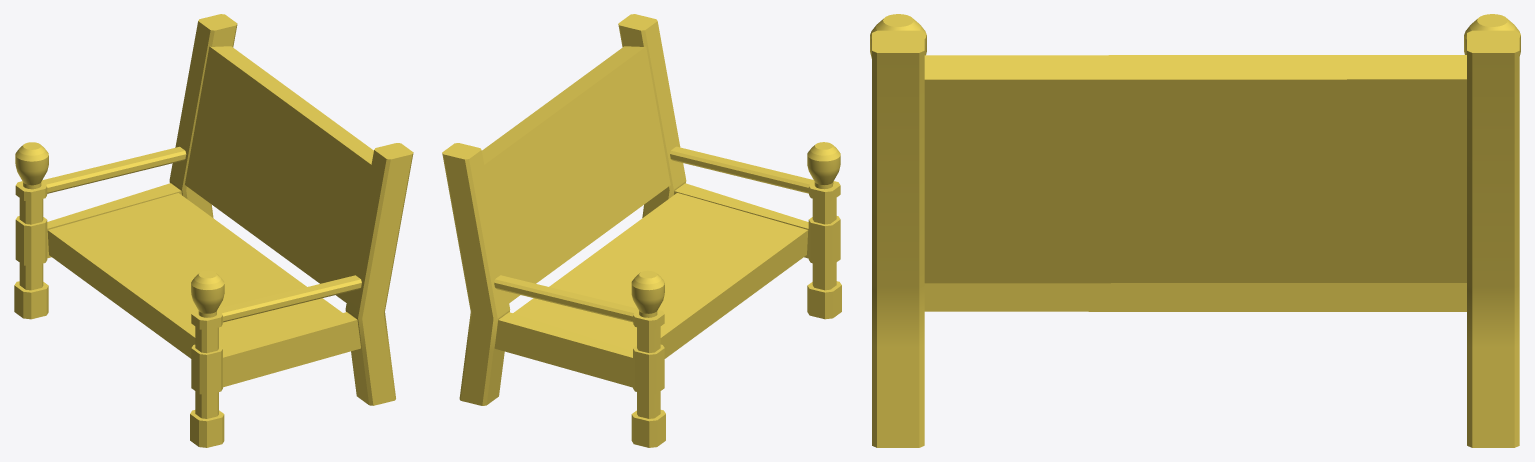
Rendered from wwr bench.fbx.
3 views of the same model, side by side, from view 1: azimuth 30°, elevation 25°; view 2: azimuth 150°, elevation 25°; view 3: azimuth 270°, elevation 25° (orthographic). The views are drawn at different scales.
Parts seen in each view (by area): view 1: back_bench, bench, back_post, back_post1, pCube24 (×2), pCube22 (×2), pCylinder25 (×2), pCube20 (×2), pCube21 (×2), pCube23 (×2); view 2: back_bench, bench, back_post1, back_post, pCube24 (×2), pCube22 (×2), pCylinder25 (×2), pCube20 (×2), pCube21 (×2), pCube23 (×2); view 3: back_bench, back_post1, back_post, bench, pCylinder25 (×2).
Part boxes in pixels (x1,y1,x2,y2): back_bench: (185,46,373,302); bench: (47,193,342,358); back_post: (223,143,413,405); back_post1: (47,14,237,258); pCube24 (×2): (15,146,361,330); pCube22 (×2): (15,216,222,394); pCylinder25 (×2): (15,142,224,317); pCube20 (×2): (14,281,224,447); pCube21 (×2): (19,263,218,418); pCube23 (×2): (19,198,218,353); back_bench: (482,46,670,303); bench: (513,193,808,358); back_post1: (442,143,632,405); back_post: (618,14,808,258); pCube24 (×2): (494,146,840,330); pCube22 (×2): (633,216,840,394); pCylinder25 (×2): (631,142,840,317); pCube20 (×2): (631,281,841,447); pCube21 (×2): (637,262,836,418); pCube23 (×2): (637,198,836,352); back_bench: (924,55,1466,283); back_post1: (1467,30,1519,447); back_post: (872,30,924,447); bench: (924,283,1466,311); pCylinder25 (×2): (870,14,1520,58).
Bounding box in the file's own units: 4.2 × 4.57 × 6.54.
